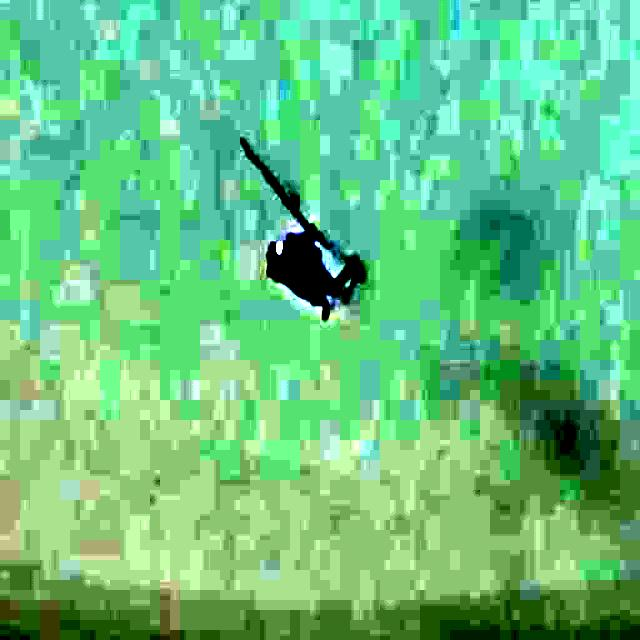drone: (244, 138, 370, 322)
